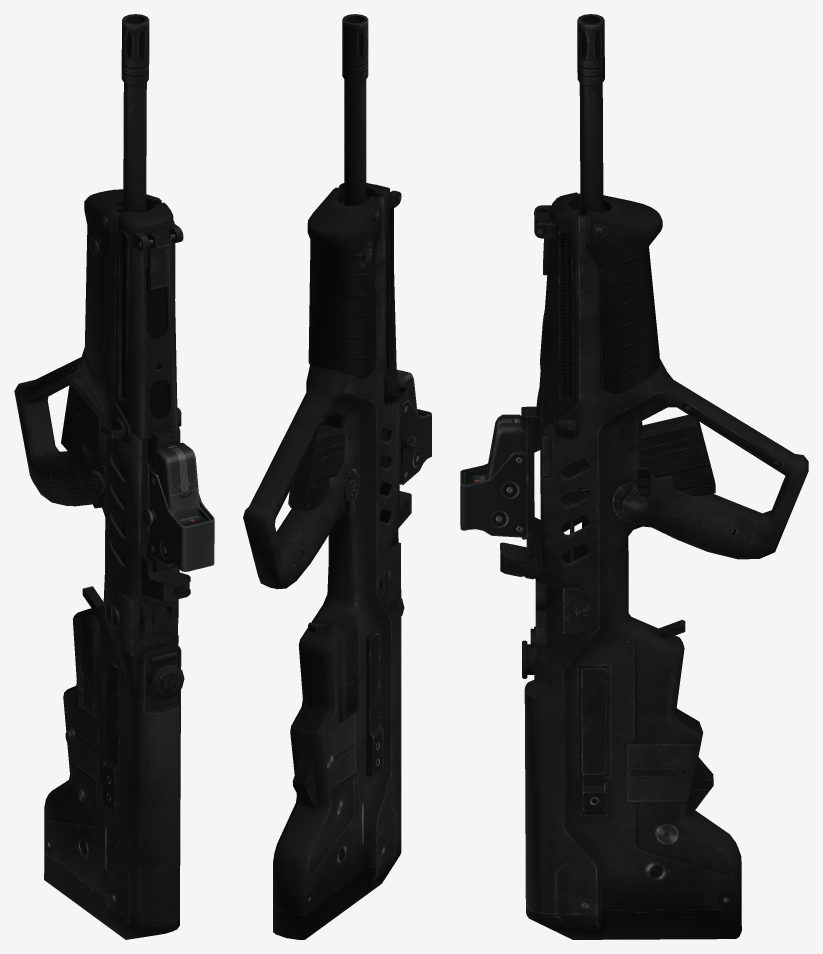
Rendered from TAR-21.obj.
The picture shows the model from 3 angles, left to right: view 1: azimuth 30°, elevation 25°; view 2: azimuth 150°, elevation 25°; view 3: azimuth 270°, elevation 25°; orthographic projection. The views are drawn at different scales.
Parts seen in each view (by area): view 1: Tar-21, Tar-21_DotSight, Model_Magazine; view 2: Tar-21, Model_Magazine, Tar-21_DotSight; view 3: Tar-21, Tar-21_DotSight, Model_Magazine.
Part boxes in pixels (box(x1,y1,x2,y2)): Tar-21: box(14, 14, 190, 939); Tar-21_DotSight: box(143, 442, 214, 571); Model_Magazine: box(61, 377, 153, 531); Tar-21: box(243, 14, 411, 939); Model_Magazine: box(288, 425, 387, 511); Tar-21_DotSight: box(397, 369, 431, 484); Tar-21: box(500, 14, 808, 939); Tar-21_DotSight: box(460, 414, 526, 537); Model_Magazine: box(561, 415, 715, 515).
Size of the model in its own units: 0.0693 by 0.8448 by 0.2924.
Materials: 2 (2 with a texture image).
